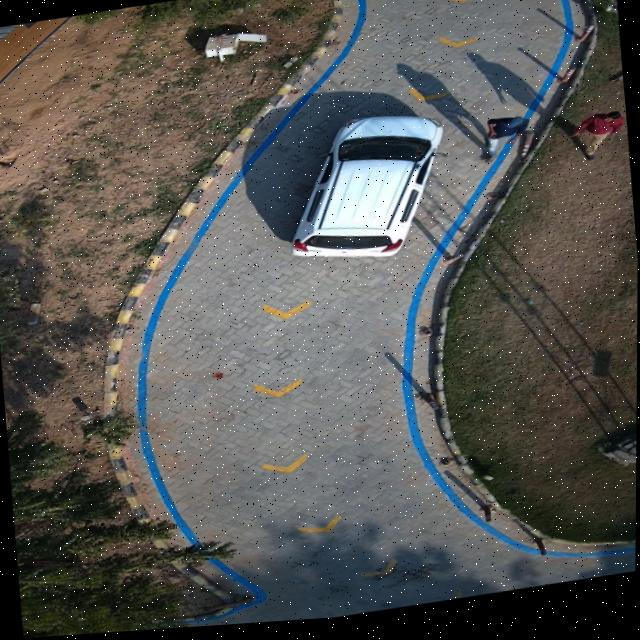car: (288, 120, 443, 263)
